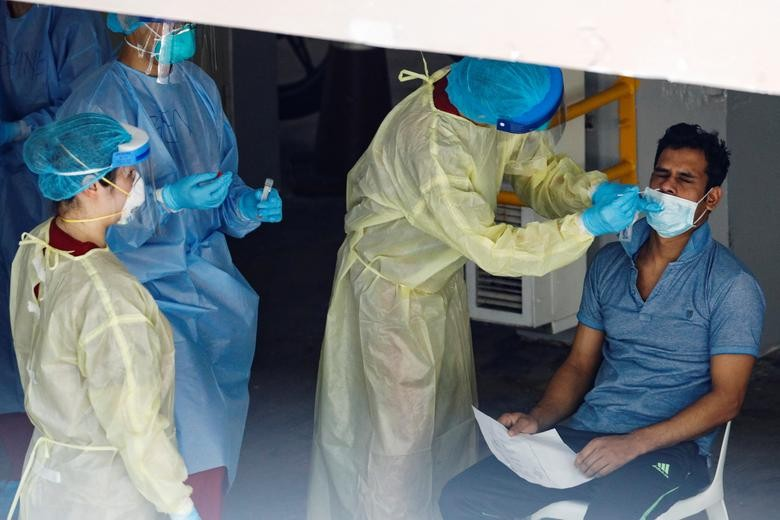Coverall: (298, 124, 560, 520), (53, 63, 269, 493), (8, 229, 207, 520)
Face_Shield: (95, 124, 164, 261), (493, 70, 566, 181)
Gloves: (156, 168, 239, 216), (578, 187, 642, 242), (236, 182, 288, 229)
mask_weared_incorrect: (643, 165, 699, 243)
with_mask: (107, 162, 149, 230)
